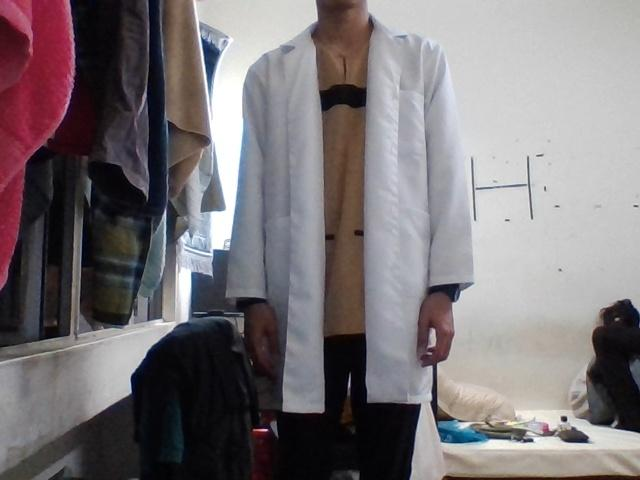lab_coat: (225, 14, 475, 411)
